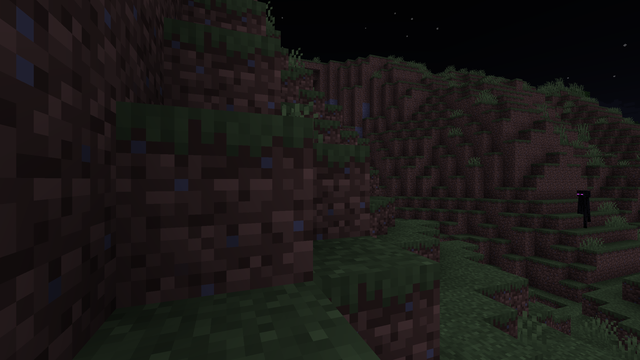endermens: (576, 189, 590, 228)
